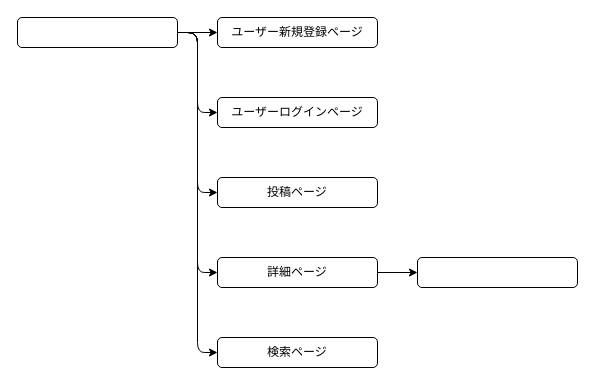
Some shapes in this 595 by 385 pixel diagram are drawn without their labels. The shapes that lost their labels are listed below. From the top down, each one's centre as x and y in pixels, then its label:
At [97,32]: "TOPページ".
At [497,272]: "評価投稿ページ".
